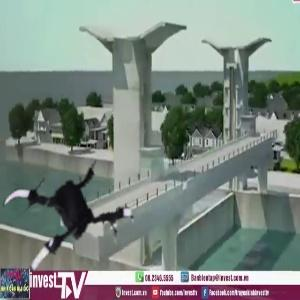drone: (1, 142, 147, 288)
